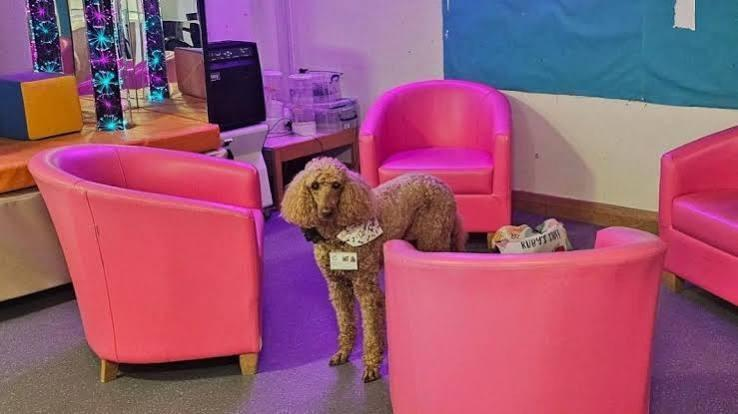adult_dog: (275, 155, 467, 385)
